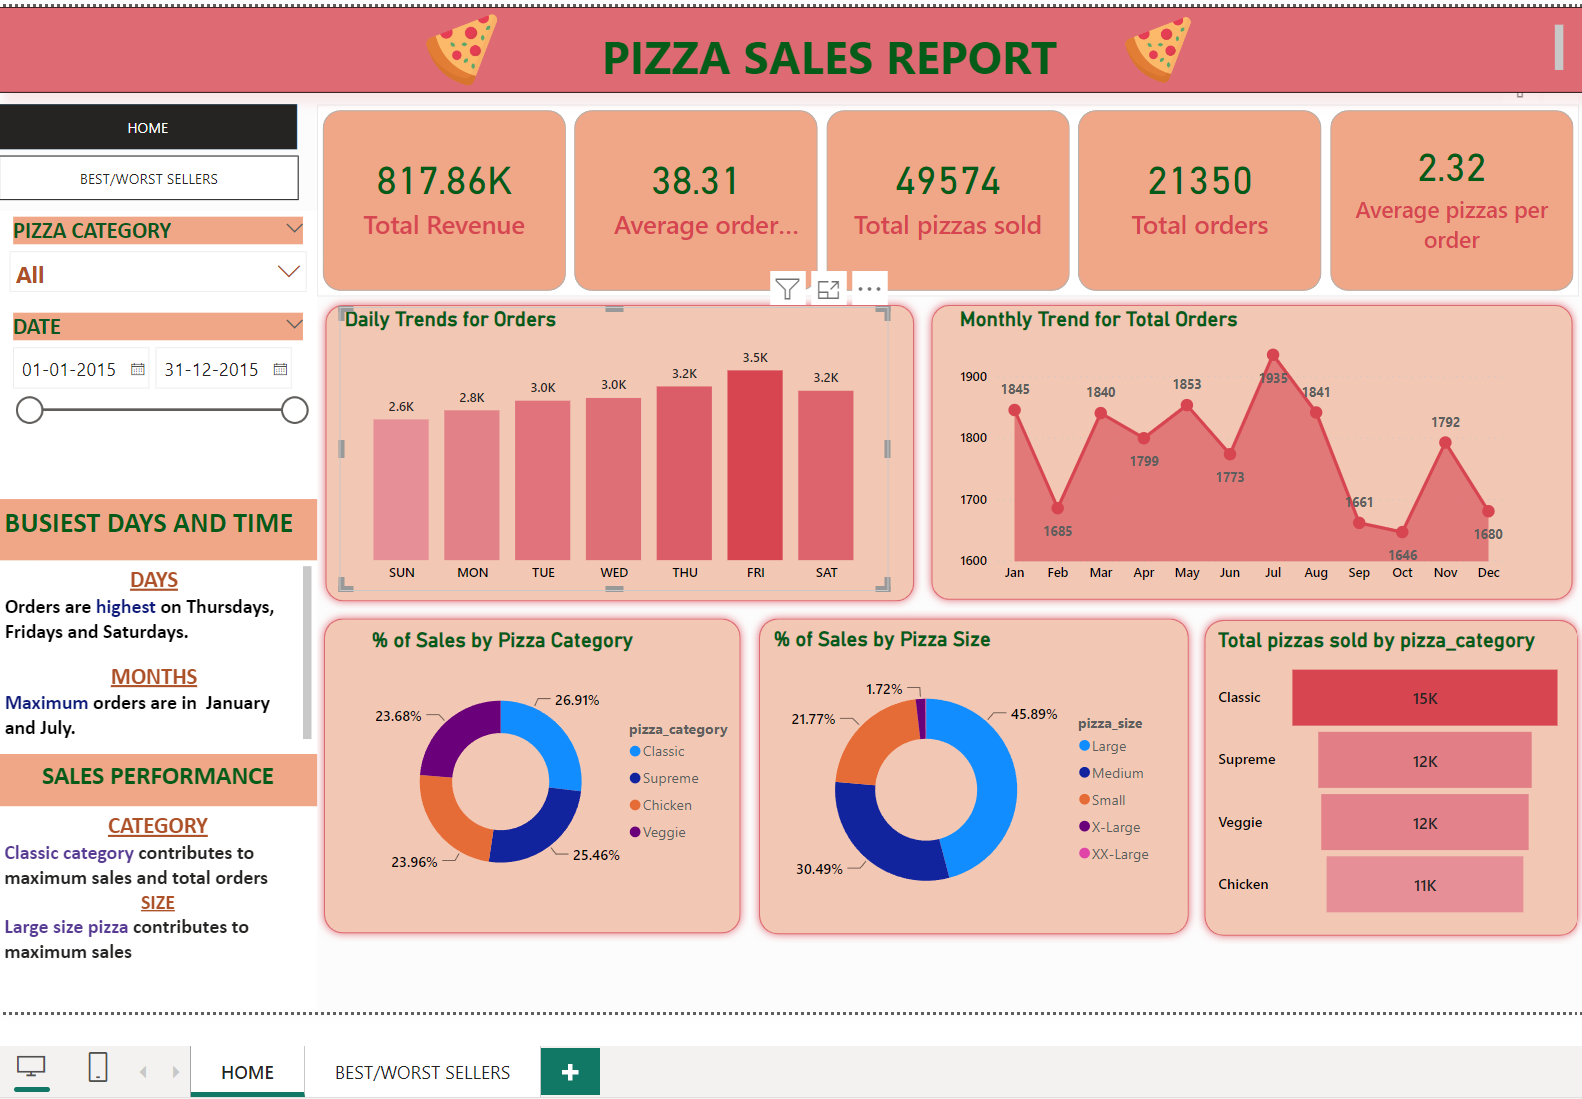

What the dashboard file says about the page in this screenshot:
{"tool":"powerbi","page":{"name":"HOME","canvas":[1495,946],"ordinal":0},"visuals":[{"type":"cardVisual","fields":{"Data":["pizza_sales.Total Revenue","pizza_sales.average order value","pizza_sales.total pizzas sold","pizza_sales.Total orders","pizza_sales.Average pizzas per order"]},"box":[299,91.7,1188.9,180.5],"z":0},{"type":"textbox","box":[150,430,40,65],"z":1000},{"type":"textbox","box":[95,602.5,146,65],"z":2000},{"type":"textbox","box":[0,0,1495,80.4],"z":3000},{"type":"textbox","box":[93.4,11.3,1384,59.4],"z":4000},{"type":"image","box":[393.5,0,83.2,80.4],"z":5000},{"type":"textbox","box":[34.7,272,79.1,248.4],"z":6000},{"type":"image","box":[1052.1,0,74.8,80.4],"z":7000},{"type":"shape","box":[299,272.2,569.8,294.8],"z":8000},{"type":"columnChart","title":"Daily Trends for Orders","fields":{"Category":["pizza_sales.Order Day"],"Y":["pizza_sales.Total orders"]},"box":[320.6,281.7,516.2,267.8],"z":9000},{"type":"shape","box":[868.8,272.2,619.2,293.4],"z":10000},{"type":"areaChart","title":"Monthly Trend for Total Orders","fields":{"Category":["pizza_sales.Month Name"],"Y":["pizza_sales.Total orders"]},"box":[898.4,282.1,523.2,268],"z":11000},{"type":"shape","box":[298.4,567.6,408,312.2],"z":12000},{"type":"shape","box":[1126.9,568.4,368.1,313.1],"z":13000},{"type":"shape","box":[706.6,567,420.3,313.1],"z":14000},{"type":"donutChart","title":"% of Sales by Pizza Category","fields":{"Y":["pizza_sales.Total Revenue"],"Category":["pizza_sales.pizza_category"]},"box":[345.5,584.2,360.8,266.4],"z":15000},{"type":"donutChart","title":"% of Sales by Pizza Size","fields":{"Y":["pizza_sales.Total Revenue"],"Category":["pizza_sales.pizza_size"]},"box":[724,582.8,376,284.5],"z":16000},{"type":"funnel","fields":{"Y":["pizza_sales.Total pizzas sold"],"Category":["pizza_sales.pizza_category"]},"box":[1142.4,583.9,334.3,283.5],"z":17000},{"type":"textbox","box":[0,462.6,299,57.8],"z":18000},{"type":"textbox","box":[0,520.4,299,181.9],"z":19000},{"type":"textbox","box":[0,702.4,299,49.4],"z":20000},{"type":"textbox","box":[0,751.7,299,194.6],"z":21000},{"type":"slicer","fields":{"Values":["pizza_sales.pizza_category"]},"box":[0,191.8,299,108.6],"z":22000},{"type":"slicer","fields":{"Values":["pizza_sales.order_date"]},"box":[0,282.1,299,180.5],"z":23000},{"type":"pageNavigator","box":[0,91.7,280.7,42.3],"z":24000},{"type":"pageNavigator","box":[0,139.6,282.1,42.3],"z":25000}]}

Visuals, with their boxes on the page's 1495x946 design canvas (x1, y1, x2, y2). These are canvas units, not pixel positions in the 1582x1099 screenshot, which may show the page scaled, cropped or inside an application window:
cardVisual - pizza_sales.Total Revenue x pizza_sales.average order value: bbox=[299, 92, 1488, 272]
textbox: bbox=[150, 430, 190, 495]
textbox: bbox=[95, 602, 241, 668]
textbox: bbox=[0, 0, 1495, 80]
textbox: bbox=[93, 11, 1477, 71]
image: bbox=[394, 0, 477, 80]
textbox: bbox=[35, 272, 114, 520]
image: bbox=[1052, 0, 1127, 80]
shape: bbox=[299, 272, 869, 567]
"Daily Trends for Orders" columnChart: bbox=[321, 282, 837, 550]
shape: bbox=[869, 272, 1488, 566]
"Monthly Trend for Total Orders" areaChart: bbox=[898, 282, 1422, 550]
shape: bbox=[298, 568, 706, 880]
shape: bbox=[1127, 568, 1495, 882]
shape: bbox=[707, 567, 1127, 880]
"% of Sales by Pizza Category" donutChart: bbox=[346, 584, 706, 851]
"% of Sales by Pizza Size" donutChart: bbox=[724, 583, 1100, 867]
funnel - pizza_sales.Total pizzas sold x pizza_sales.pizza_category: bbox=[1142, 584, 1477, 867]
textbox: bbox=[0, 463, 299, 520]
textbox: bbox=[0, 520, 299, 702]
textbox: bbox=[0, 702, 299, 752]
textbox: bbox=[0, 752, 299, 946]
slicer - pizza_sales.pizza_category: bbox=[0, 192, 299, 300]
slicer - pizza_sales.order_date: bbox=[0, 282, 299, 463]
pageNavigator: bbox=[0, 92, 281, 134]
pageNavigator: bbox=[0, 140, 282, 182]
